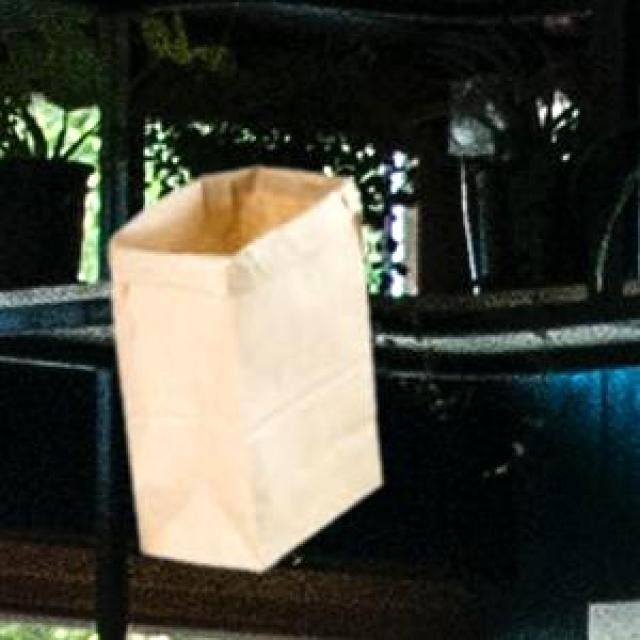Paper_Bag: (106, 166, 377, 566)
